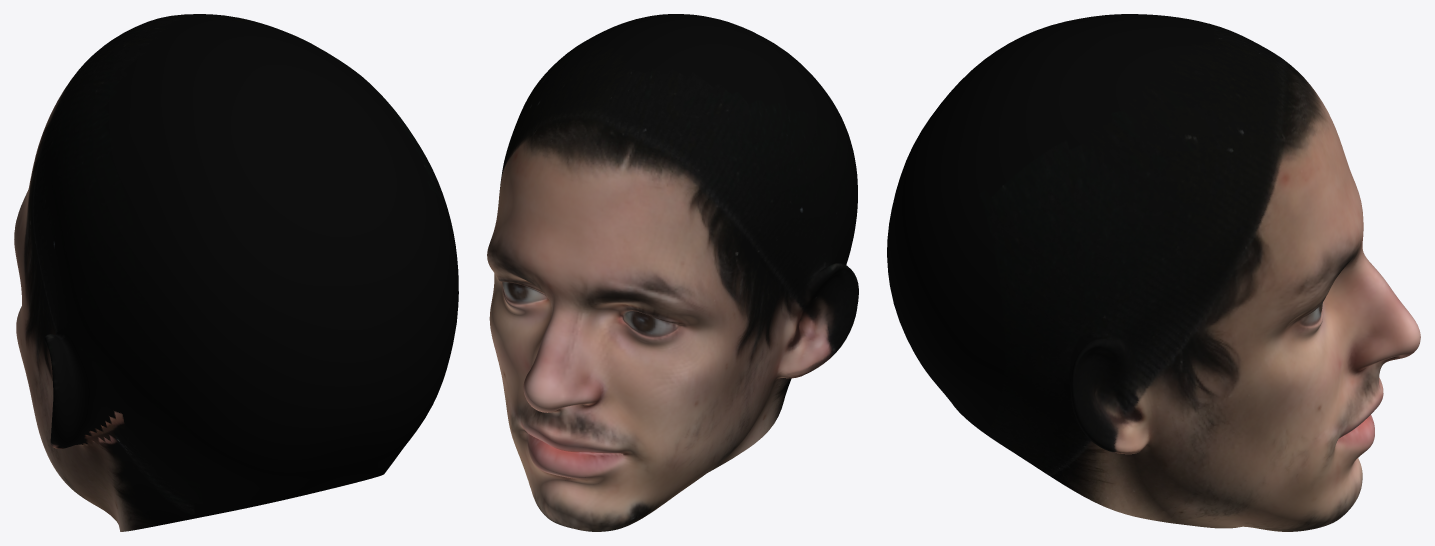
3 renders of one model, left to right at view 1: azimuth 30°, elevation 25°; view 2: azimuth 150°, elevation 25°; view 3: azimuth 270°, elevation 25°, orthographic. The views are drawn at different scales.
Visible parts, largest first — view 1: FaceBuilderHead; view 2: FaceBuilderHead; view 3: FaceBuilderHead.
Part boxes in pixels (box(x1,y1,x2,y2)): FaceBuilderHead: box(14, 14, 458, 531); FaceBuilderHead: box(487, 14, 858, 531); FaceBuilderHead: box(887, 14, 1420, 531).
Size of the model in its own units: 1.7 by 2.11 by 2.09.
1 material, 1 textured.
